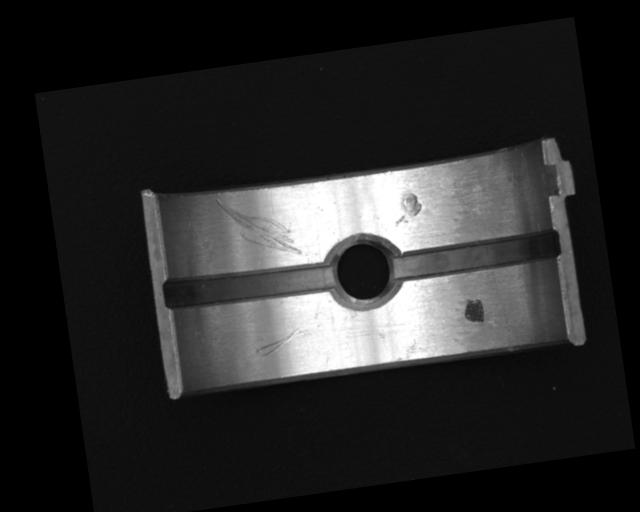blot: (462, 297, 486, 326)
bruise: (391, 191, 424, 227)
gap: (159, 254, 337, 315), (390, 230, 561, 283)
hole: (323, 228, 407, 313)
nick: (214, 189, 303, 266), (253, 324, 310, 359)
